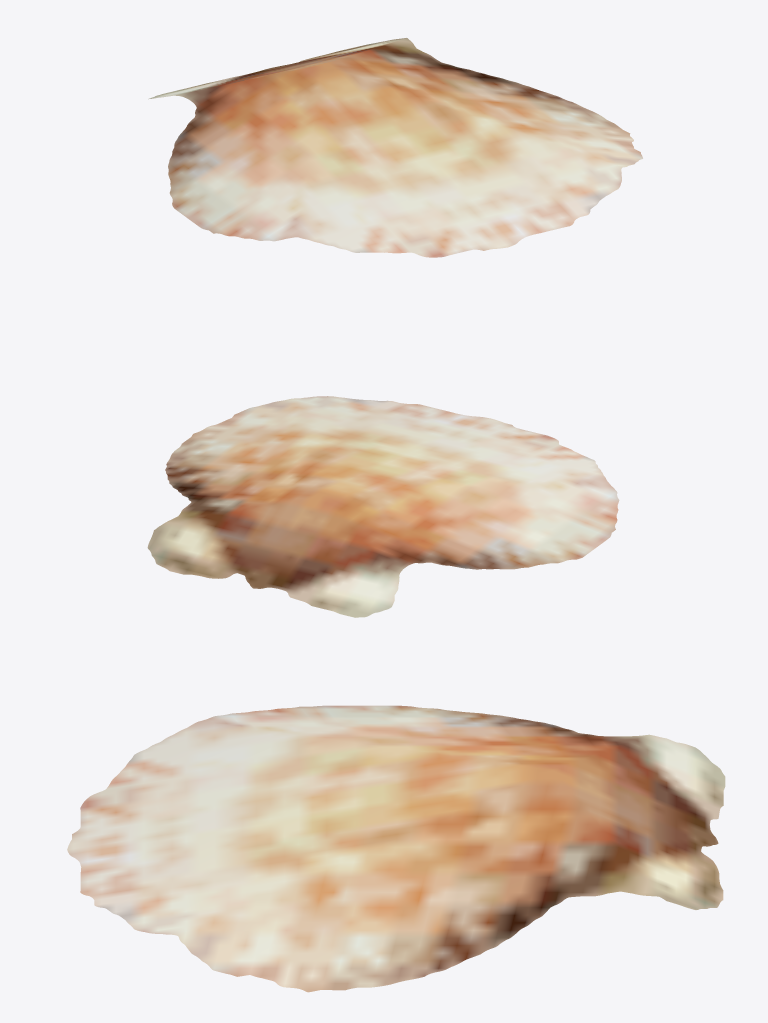
Rendered from shor_seashell_scallop_a2_l1.fbx.
3 renders of one model, top to bottom at view 1: azimuth 30°, elevation 25°; view 2: azimuth 150°, elevation 25°; view 3: azimuth 270°, elevation 25°, orthographic. The views are drawn at different scales.
Parts seen in each view (by area): view 1: mesh_node; view 2: mesh_node; view 3: mesh_node.
Part boxes in pixels (box(x1,y1,x2,y2)): mesh_node: box(148, 38, 642, 257); mesh_node: box(147, 396, 619, 617); mesh_node: box(67, 705, 725, 992).
Bounding box in the file's own units: 0.1005 × 0.0123 × 0.1005.
1 material, 1 textured.
